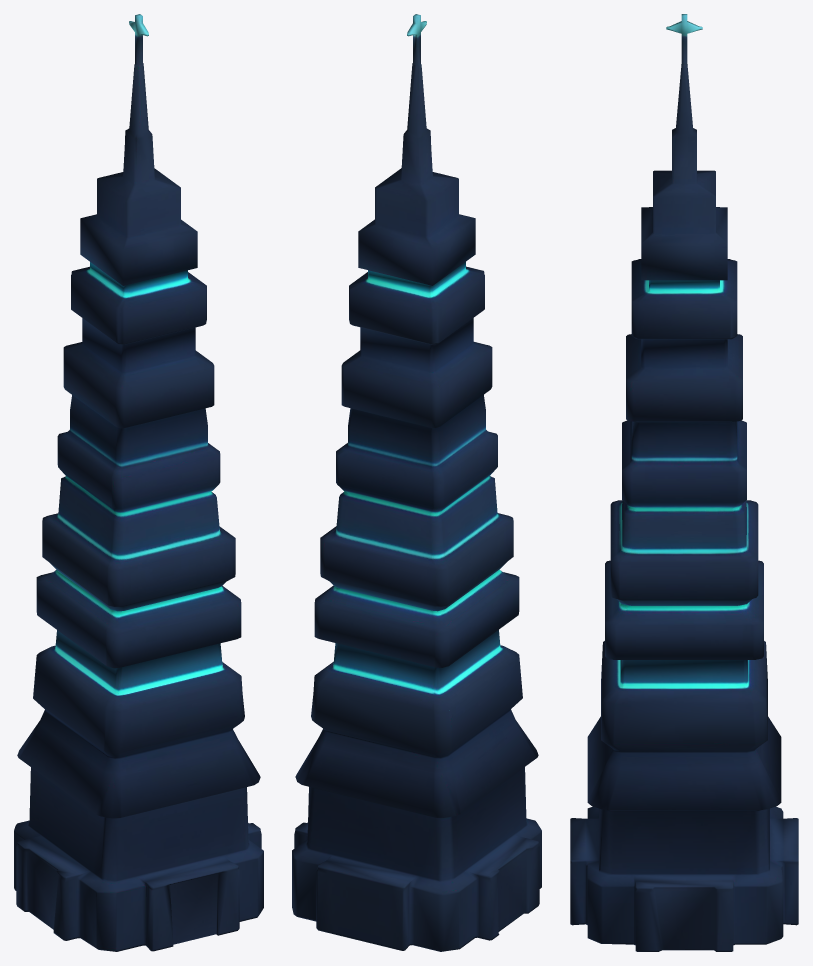
The model's file is brain-tower-ai-v2-decimated-2000faces.fbx.
3 renders of one model, left to right at view 1: azimuth 30°, elevation 25°; view 2: azimuth 150°, elevation 25°; view 3: azimuth 270°, elevation 25°, orthographic.
Visible parts, largest first — view 1: tripo_node_c2d30f94; view 2: tripo_node_c2d30f94; view 3: tripo_node_c2d30f94.
Boxes of the visible parts, x1,y1,x2,y2 form: tripo_node_c2d30f94: [14, 14, 263, 951]; tripo_node_c2d30f94: [292, 14, 541, 951]; tripo_node_c2d30f94: [570, 14, 798, 951].
Bounding box in the file's own units: 0.2329 × 1 × 0.2329.
1 material, 1 textured.
